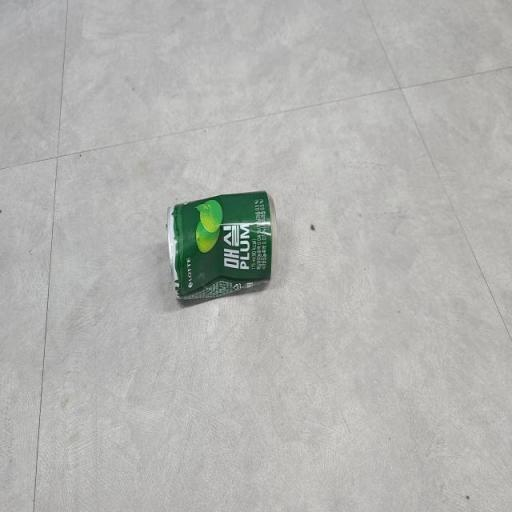metal: (157, 168, 303, 325)
